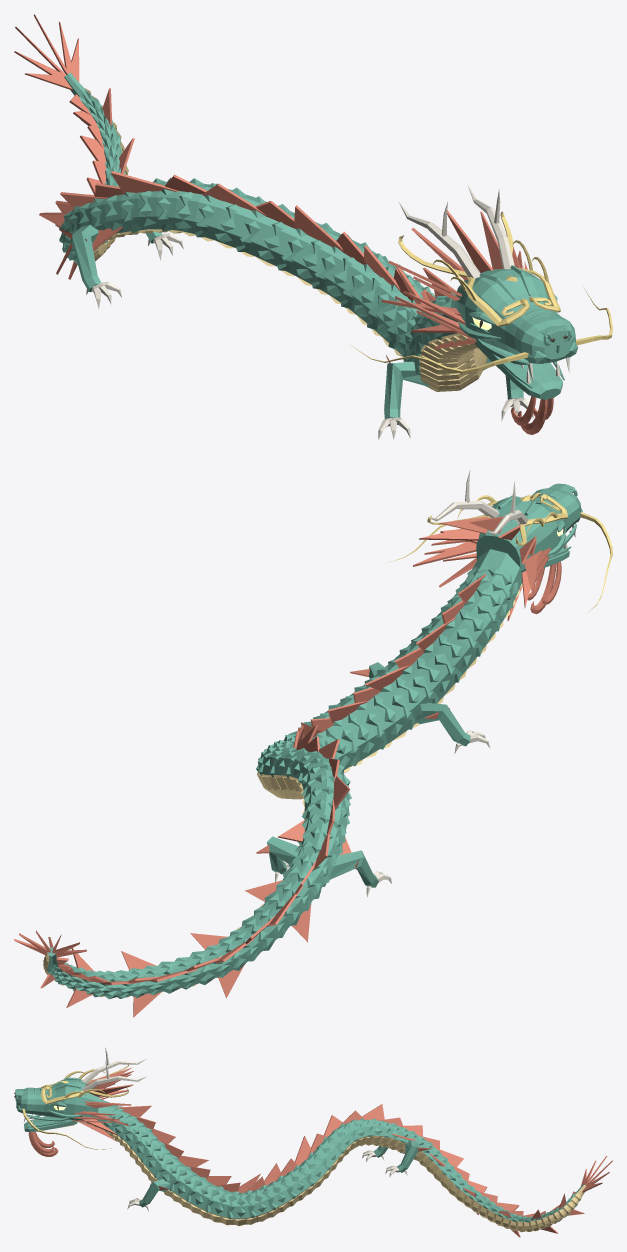
Rendered from Dragon_Long_v3.glb.
3 renders of one model, top to bottom at view 1: azimuth 30°, elevation 25°; view 2: azimuth 150°, elevation 25°; view 3: azimuth 270°, elevation 25°, orthographic. The views are drawn at different scales.
Visible parts, largest first — view 1: Body, Fins, Belly, Horns, Whiskers; view 2: Body, Fins, Horns, Whiskers, Belly; view 3: Body, Fins, Belly, Horns, Whiskers.
Boxes of the visible parts, box(x1,y1,x2,y2) form: Body: box(59, 72, 578, 419); Fins: box(14, 14, 553, 434); Belly: box(84, 88, 487, 391); Horns: box(86, 185, 569, 440); Whiskers: box(349, 211, 612, 373); Body: box(46, 483, 582, 999); Fins: box(14, 516, 561, 1017); Horns: box(275, 470, 575, 897); Whiskers: box(387, 492, 612, 611); Belly: box(43, 568, 543, 997); Body: box(14, 1077, 584, 1231); Fins: box(28, 1067, 612, 1237); Belly: box(31, 1122, 586, 1232); Horns: box(23, 1047, 407, 1211); Whiskers: box(22, 1064, 128, 1149).
Bounding box in the file's own units: 14.48 × 19.17 × 57.76.
